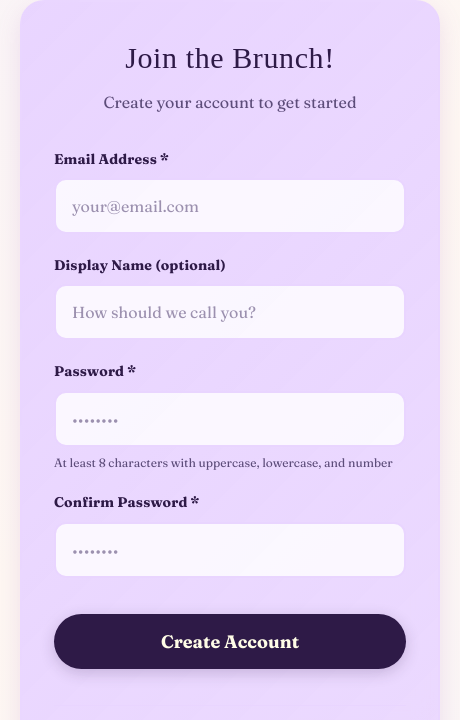
Scenario: SignUpForm › Loading State › should disable button during submission
Type "test@example.com" into the field labelled "Email Address *" at [230, 206], box [54, 178, 406, 234]
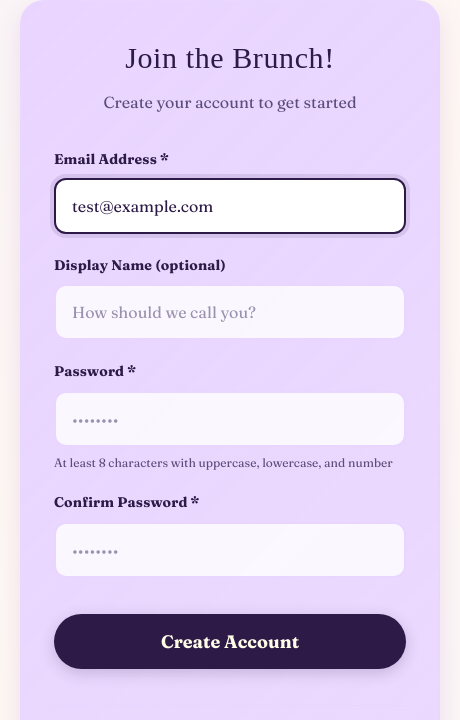
Type "Password123" into the password field labelled "Password *" at [230, 419], box [54, 391, 406, 447]
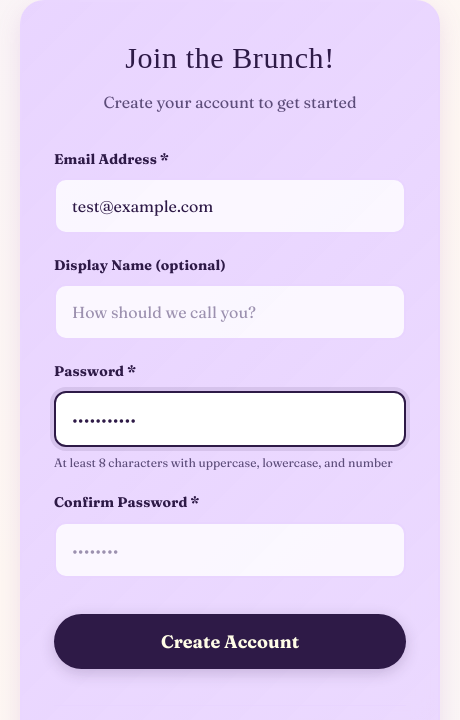
Type "Password123" into the password field labelled "Confirm Password *" at [230, 550], box [54, 522, 406, 578]
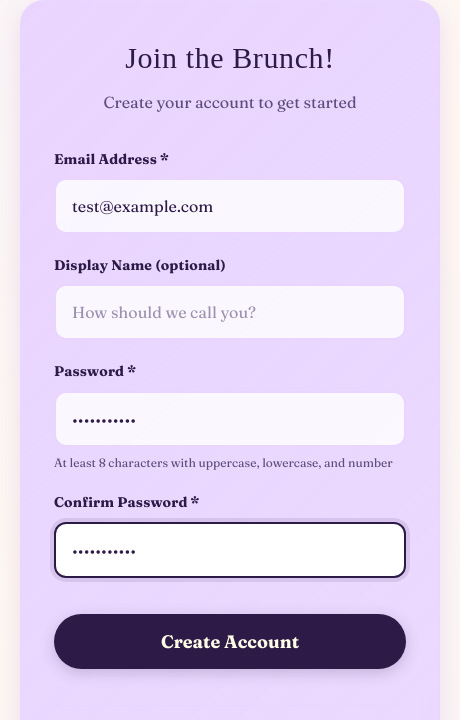
Click the button "Create Account" at [230, 641], box [54, 614, 406, 669]
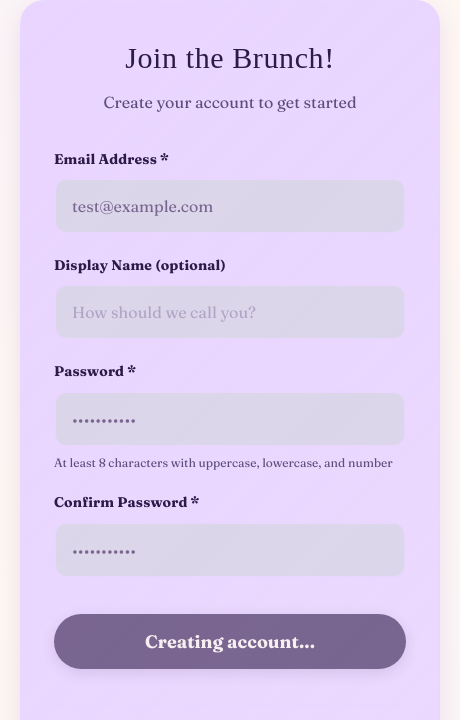
Now the button named "create account" is disabled, box [54, 614, 406, 669]
